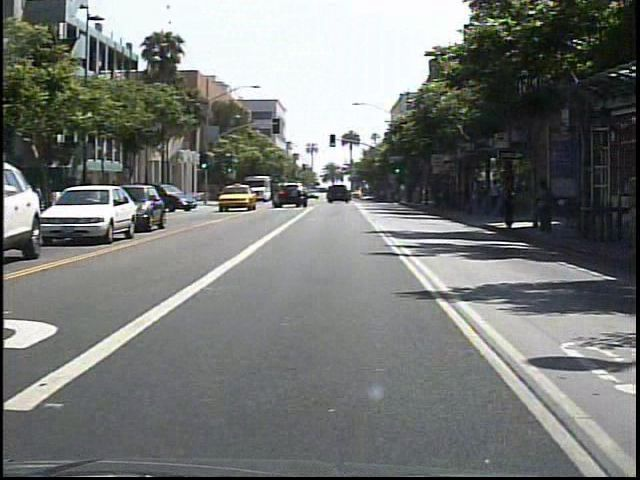person: (502, 165, 526, 234), (535, 177, 558, 241), (492, 178, 507, 218)
